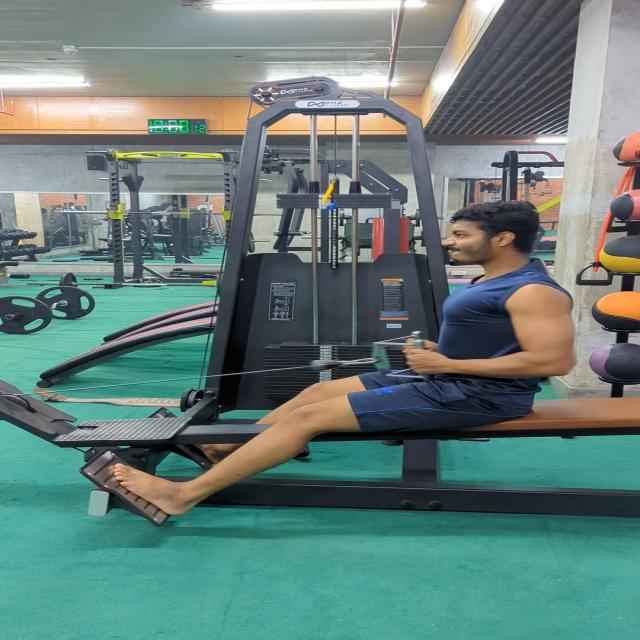Normal_RowingMachineExercise: (110, 200, 576, 516)
